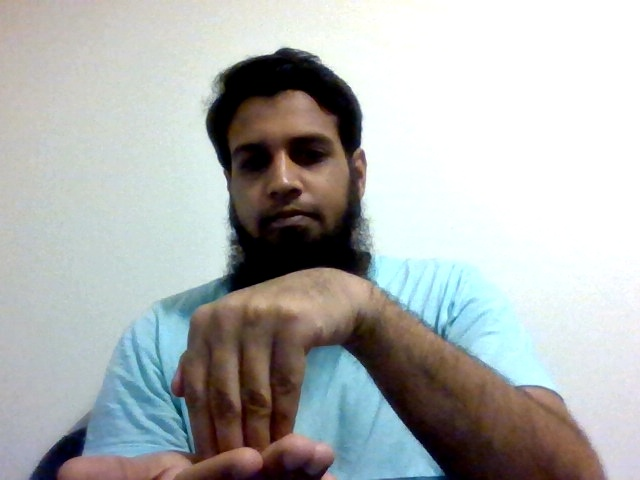again: (52, 260, 362, 478)
